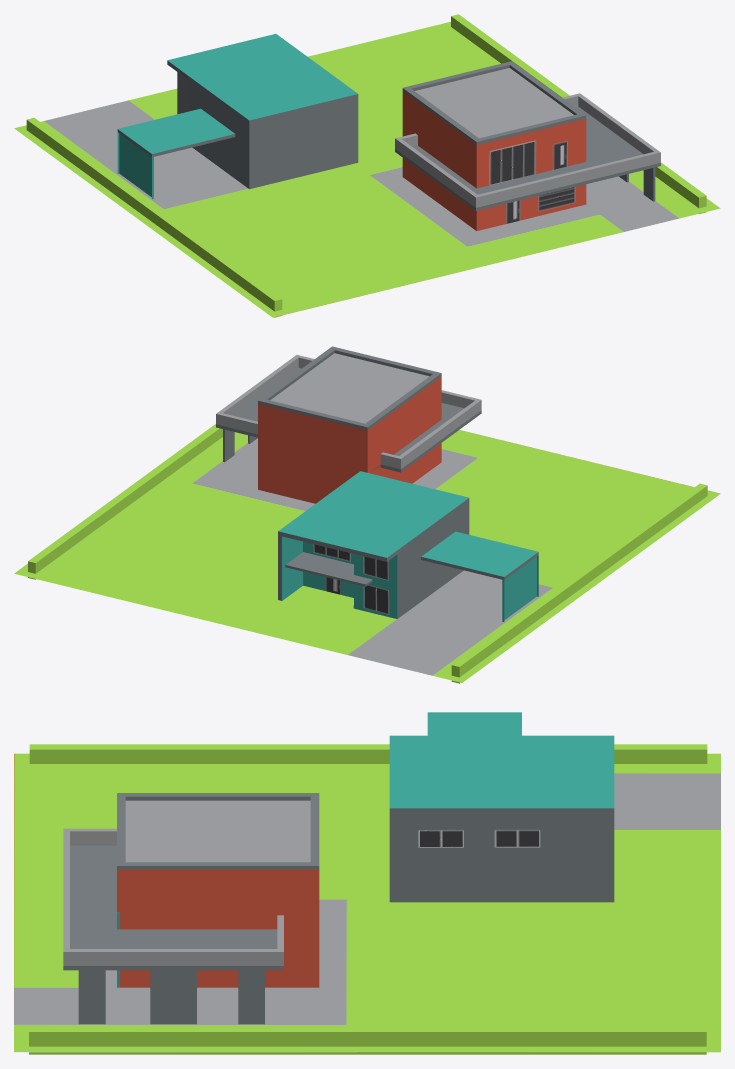
Rendered from 2maisons_2.glb.
3 renders of one model, top to bottom at view 1: azimuth 30°, elevation 25°; view 2: azimuth 150°, elevation 25°; view 3: azimuth 270°, elevation 25°, orthographic. The views are drawn at different scales.
Visible parts, largest first — view 1: Plan; view 2: Plan; view 3: Plan.
Part boxes in pixels (<box>): Plan: <box>14,14,720,317</box>; Plan: <box>14,346,720,683</box>; Plan: <box>14,712,720,1054</box>.
Size of the model in its own units: 15 by 3.26 by 15.
Materials: 1 (1 with a texture image).
